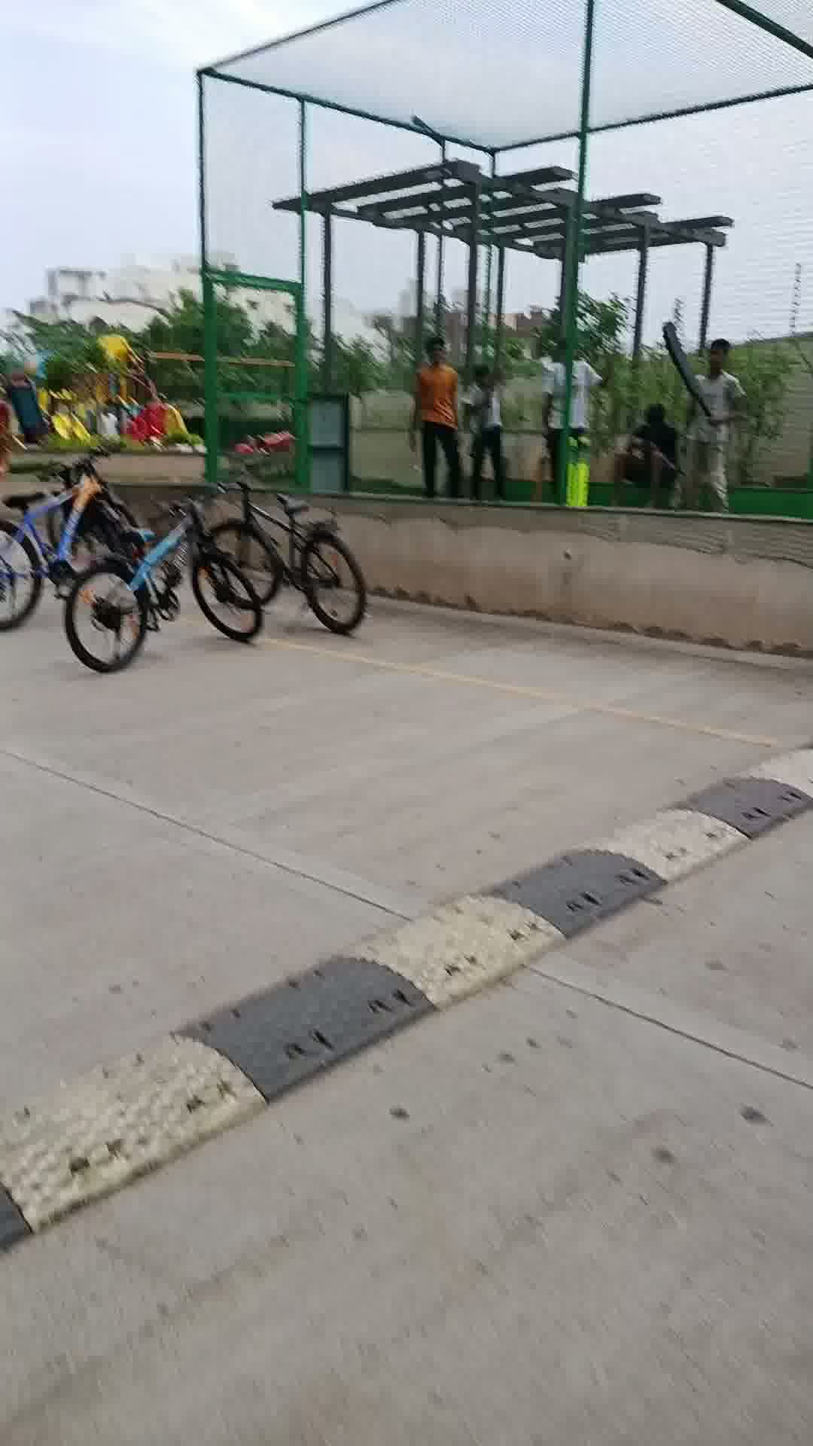bicycle: (34, 512, 293, 672), (193, 444, 404, 638), (0, 410, 154, 641)
person: (650, 283, 761, 516), (405, 317, 485, 519), (541, 319, 617, 525), (599, 389, 686, 505), (466, 346, 527, 504)
